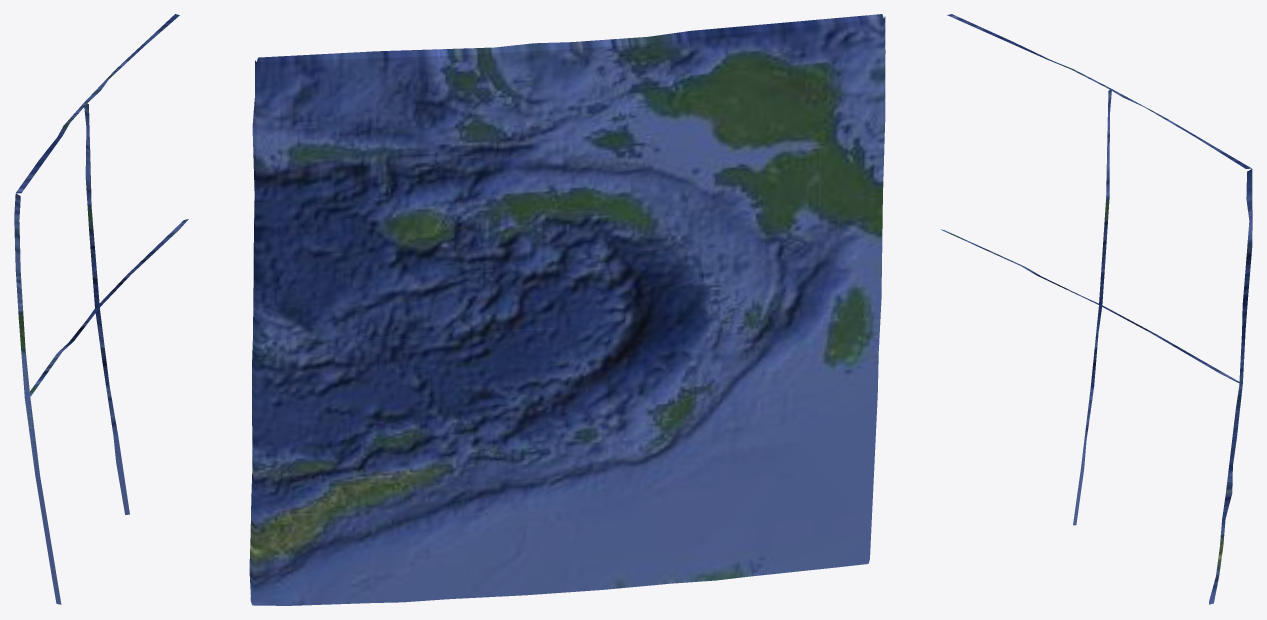
The picture shows the model from 3 angles, left to right: view 1: azimuth 30°, elevation 25°; view 2: azimuth 150°, elevation 25°; view 3: azimuth 270°, elevation 25°; orthographic projection. The views are drawn at different scales.
Size of the model in its own units: 1052995 by 1252275 by 897488.
1 material, 1 textured.
